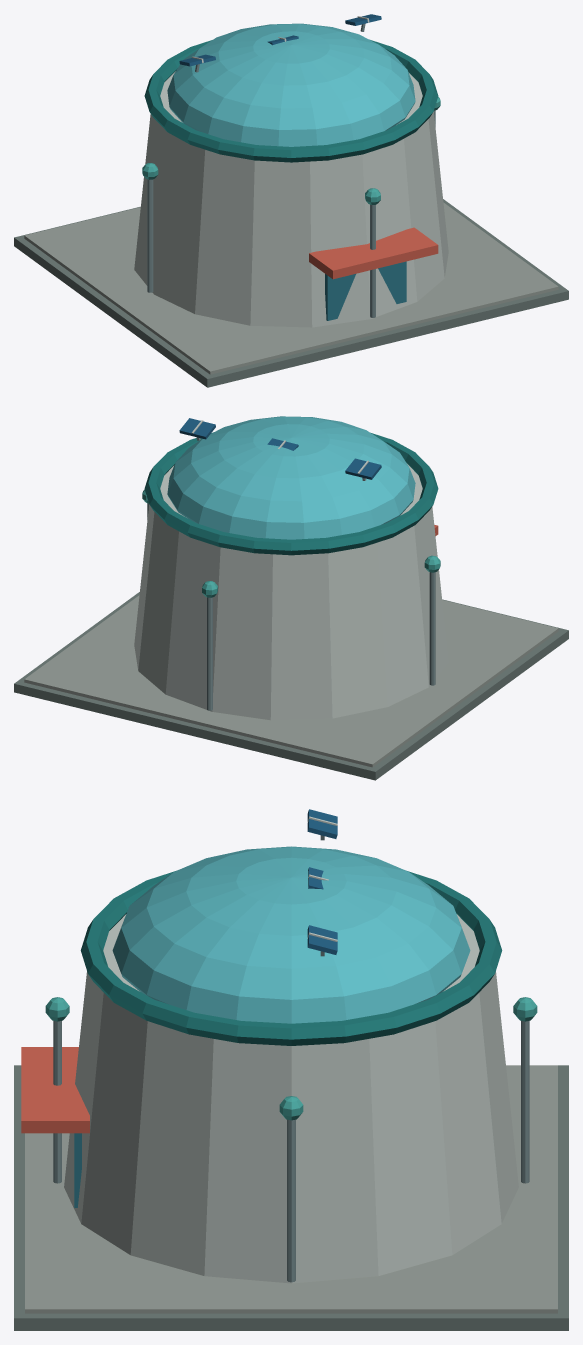
Rendered from research_lab_lv3.glb.
3 views of the same model, one above another, from view 1: azimuth 30°, elevation 25°; view 2: azimuth 150°, elevation 25°; view 3: azimuth 270°, elevation 25° (orthographic). The views are drawn at different scales.
Visible parts, largest first — view 1: rough, glossy, metallic; view 2: rough, glossy, metallic; view 3: rough, glossy, metallic.
Part boxes in pixels (bbox=[...]): rough: bbox=[14, 16, 568, 387]; glossy: bbox=[167, 23, 415, 320]; metallic: bbox=[147, 14, 435, 317]; rough: bbox=[14, 420, 568, 780]; glossy: bbox=[167, 416, 415, 539]; metallic: bbox=[147, 418, 435, 710]; rough: bbox=[14, 816, 568, 1330]; glossy: bbox=[74, 846, 470, 1207]; metallic: bbox=[53, 809, 529, 1282].
Bounding box in the file's own units: 9.6 × 5.83 × 8.9.
